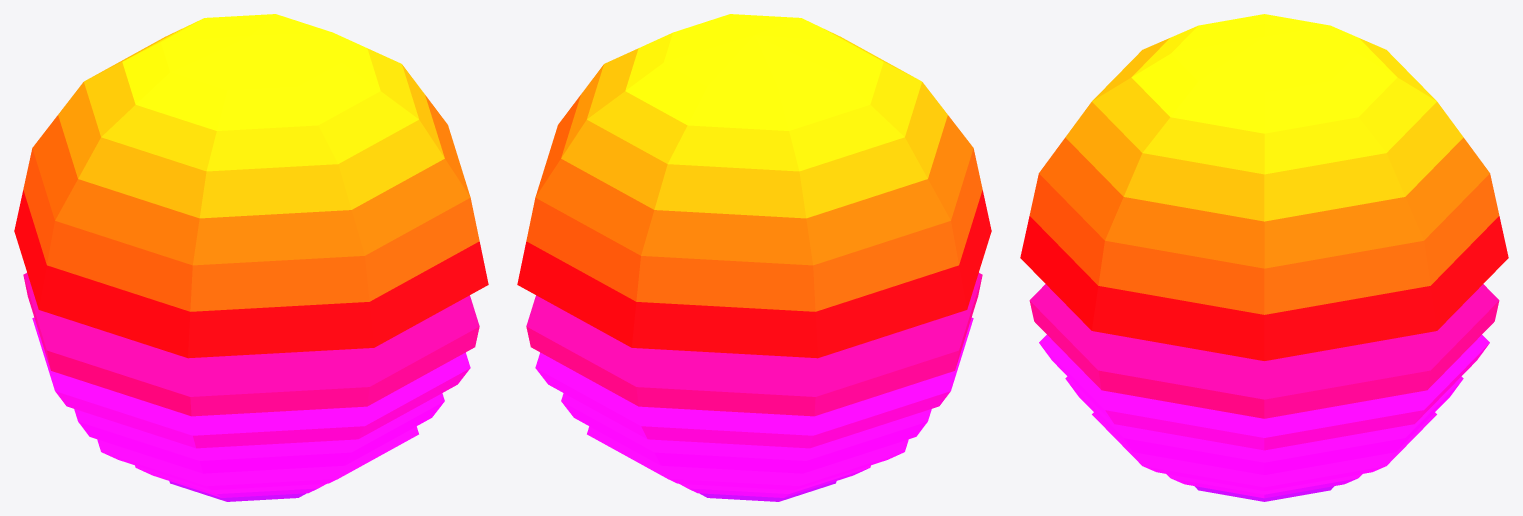
Rendered from Player_Glow.fbx.
3 views of the same model, side by side, from view 1: azimuth 30°, elevation 25°; view 2: azimuth 150°, elevation 25°; view 3: azimuth 270°, elevation 25° (orthographic).
Parts seen in each view (by area): view 1: Sphere; view 2: Sphere; view 3: Sphere.
Boxes of the visible parts, x1,y1,x2,y2 form: Sphere: (14,14,488,501); Sphere: (517,14,991,501); Sphere: (1020,14,1508,501).
Size of the model in its own units: 200 by 200 by 200.
